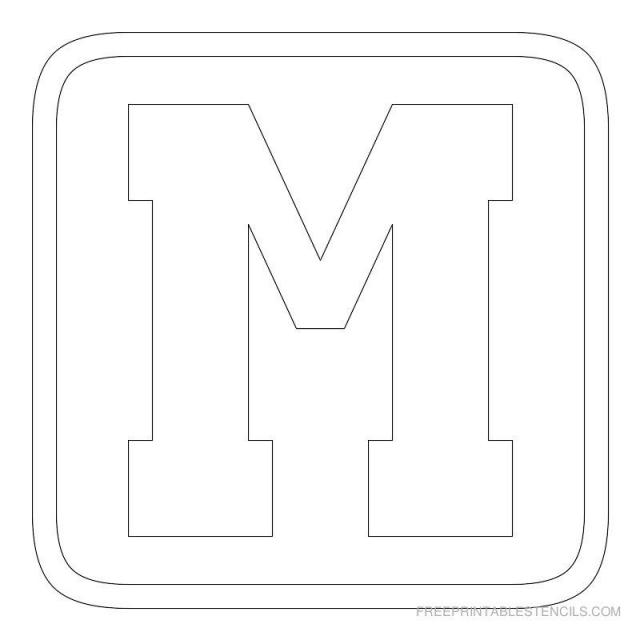M: (98, 83, 548, 565)
